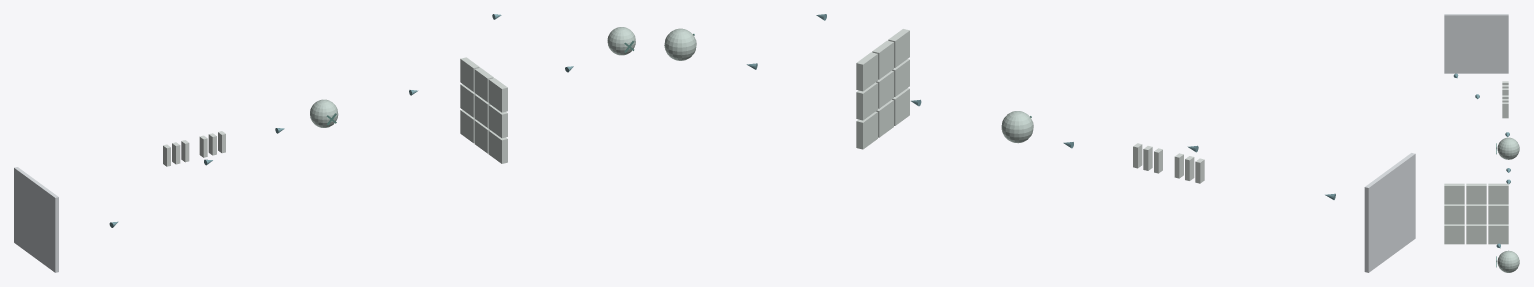
The model's file is cbam.glb.
3 renders of one model, left to right at view 1: azimuth 30°, elevation 25°; view 2: azimuth 150°, elevation 25°; view 3: azimuth 270°, elevation 25°, orthographic. The views are drawn at different scales.
Parts seen in each view (by area): view 1: Spatial attention · avg/max +7×7 · 1 × H × W (×9), Feature · C × H × W, Channel gate · C × H × W, Spatial gate · C × H × W; view 2: Spatial attention · avg/max +7×7 · 1 × H × W (×9), Feature · C × H × W, Spatial gate · C × H × W, Channel gate · C × H × W; view 3: Spatial attention · avg/max +7×7 · 1 × H × W (×9), Feature · C × H × W, Channel gate · C × H × W, Spatial gate · C × H × W, Channel attention · avg/max + MLP · C × 1 × 1.
Part boxes in pixels (box(x1,y1,x2,y2)): Spatial attention · avg/max +7×7 · 1 × H × W (×9): box(460, 57, 507, 163); Feature · C × H × W: box(14, 167, 58, 272); Channel gate · C × H × W: box(310, 99, 338, 127); Spatial gate · C × H × W: box(607, 27, 635, 55); Spatial attention · avg/max +7×7 · 1 × H × W (×9): box(856, 29, 909, 149); Feature · C × H × W: box(1364, 153, 1415, 272); Spatial gate · C × H × W: box(664, 28, 696, 60); Channel gate · C × H × W: box(1001, 111, 1033, 143); Spatial attention · avg/max +7×7 · 1 × H × W (×9): box(1444, 183, 1508, 244); Feature · C × H × W: box(1444, 14, 1508, 73); Channel gate · C × H × W: box(1497, 137, 1519, 159); Spatial gate · C × H × W: box(1497, 250, 1519, 272); Channel attention · avg/max + MLP · C × 1 × 1: box(1502, 102, 1508, 118).
Size of the model in its own units: 22.5 by 3.86 by 3.05.
